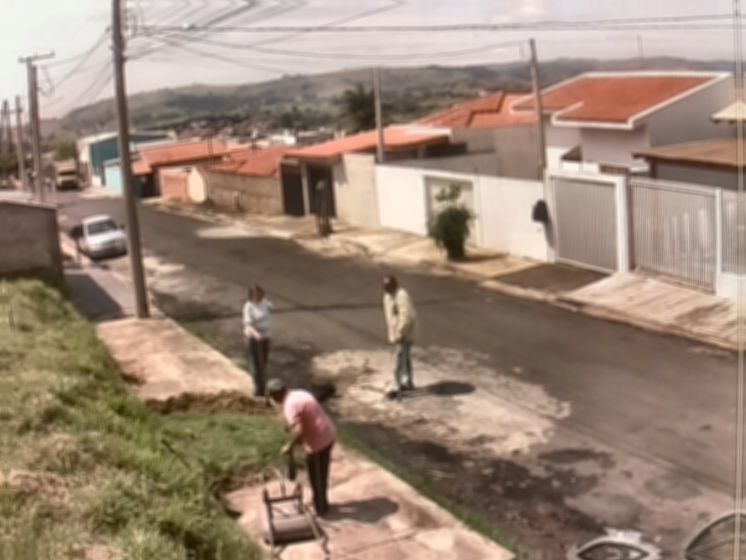person: (265, 378, 337, 517), (381, 276, 417, 399), (242, 284, 276, 398)
